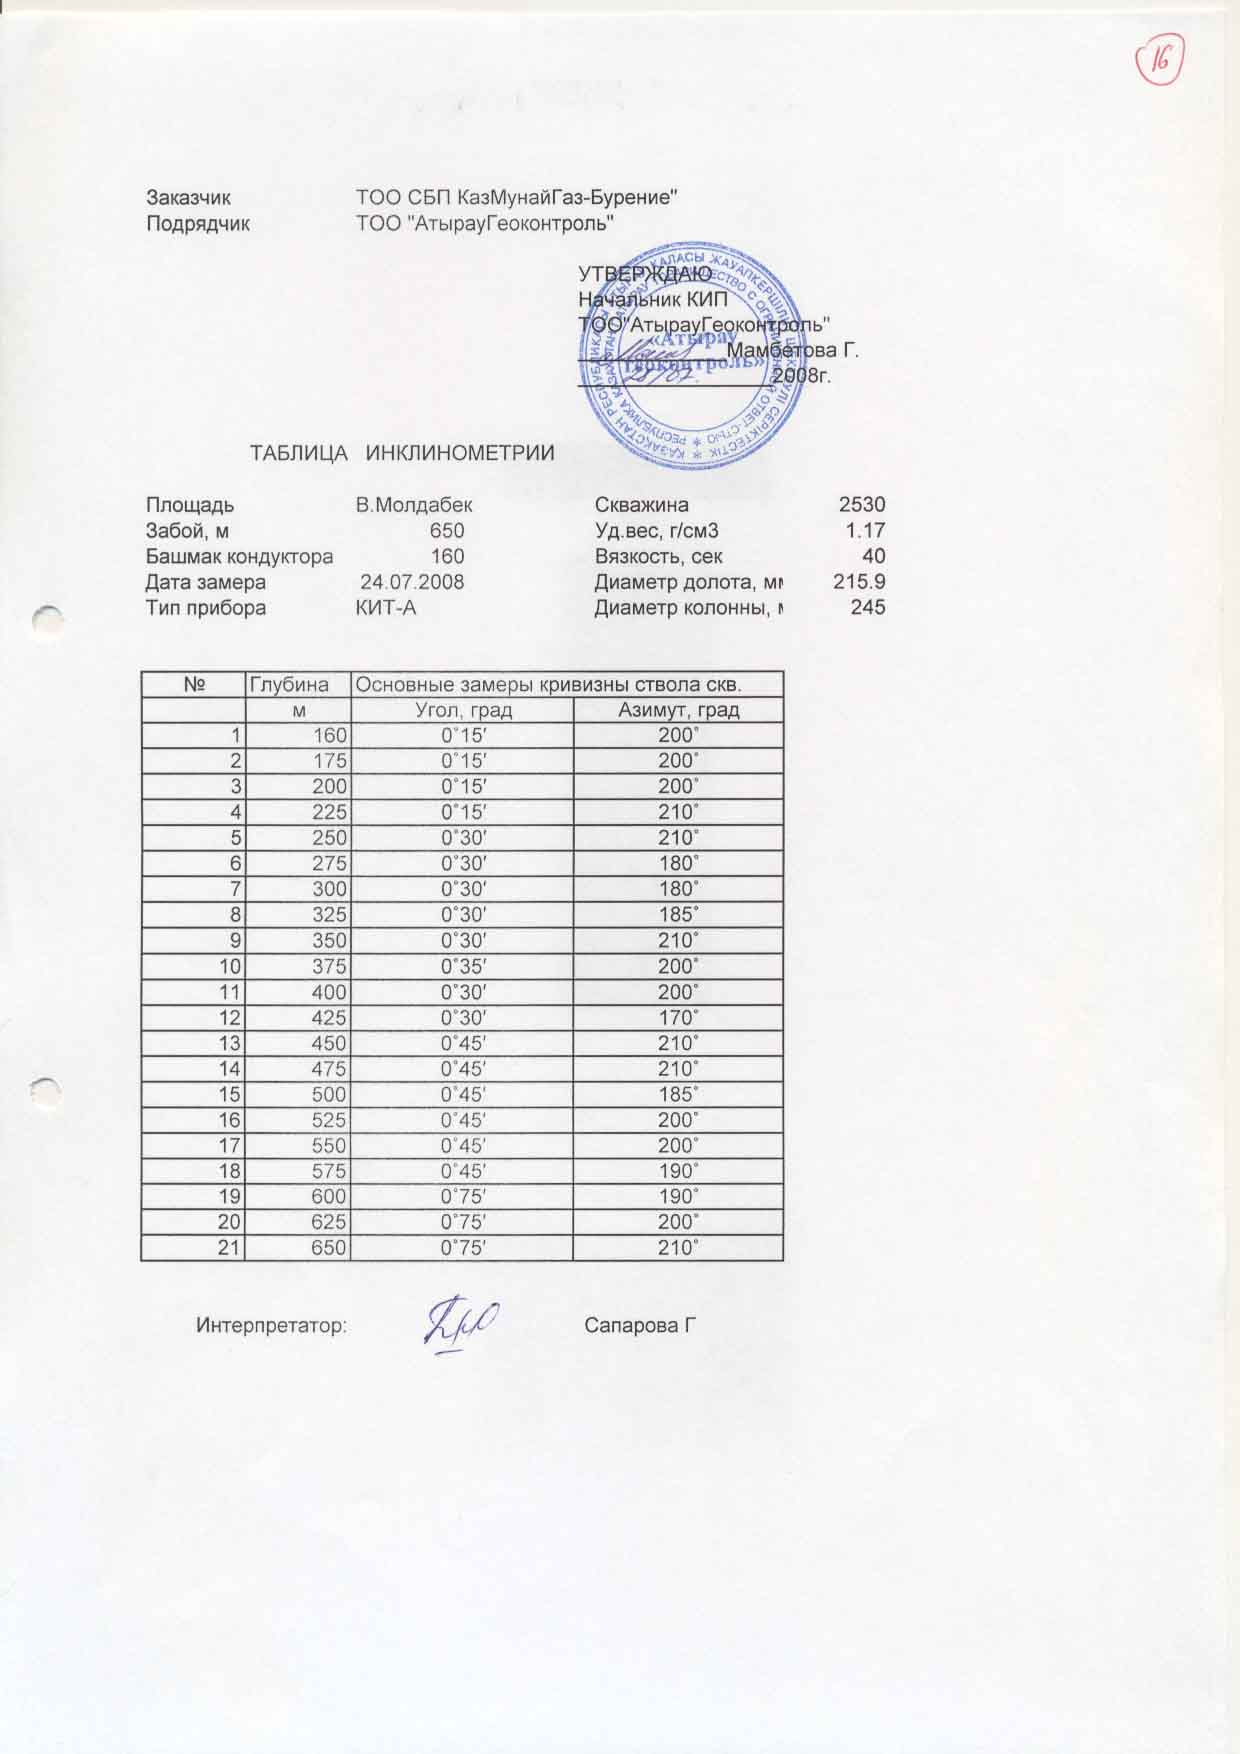Bordered: (138, 670, 785, 1266)
